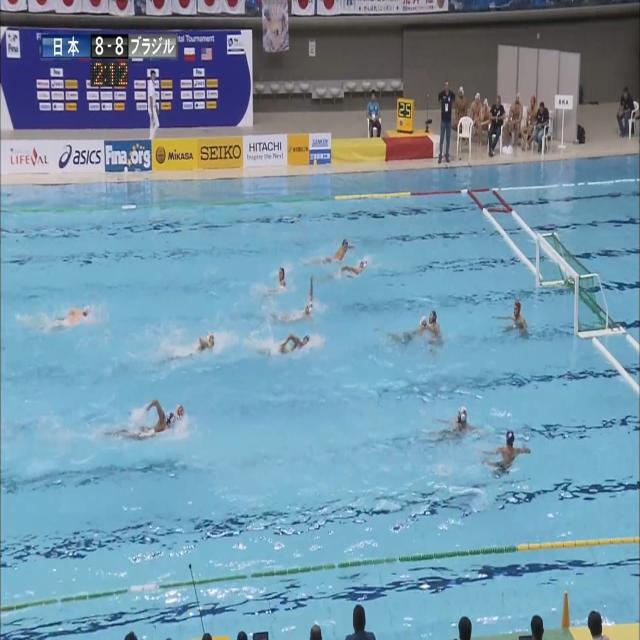ball: (176, 405, 184, 418)
